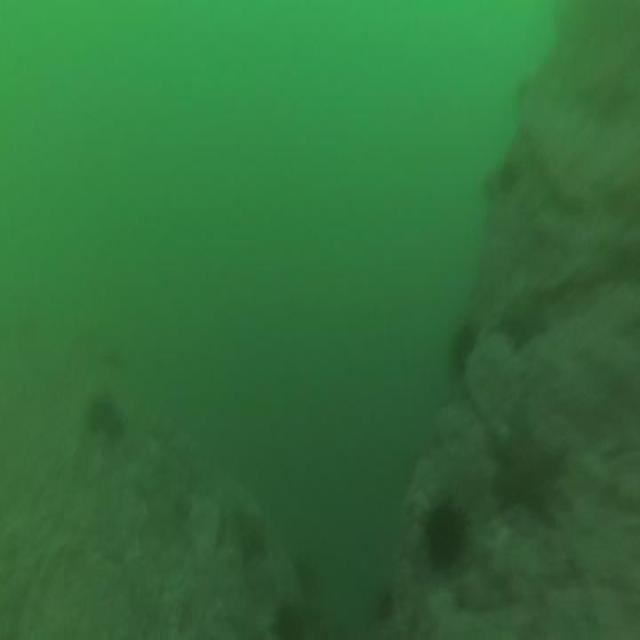echinus: (420, 495, 470, 575), (82, 382, 122, 448), (447, 322, 478, 380)
starfish: (490, 411, 570, 534)
